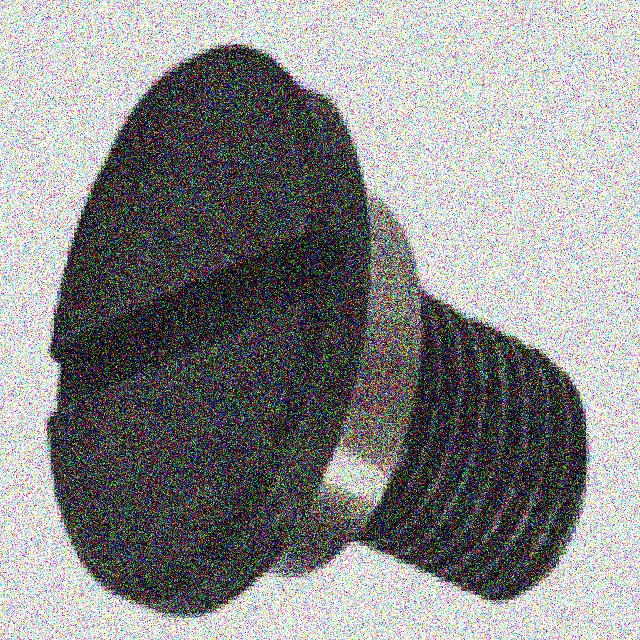duz: (44, 42, 373, 620)
